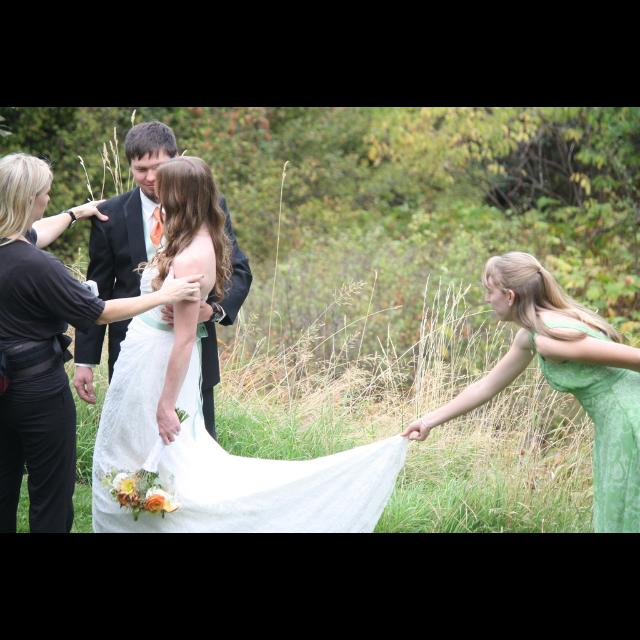Flower: (98, 470, 176, 518)
